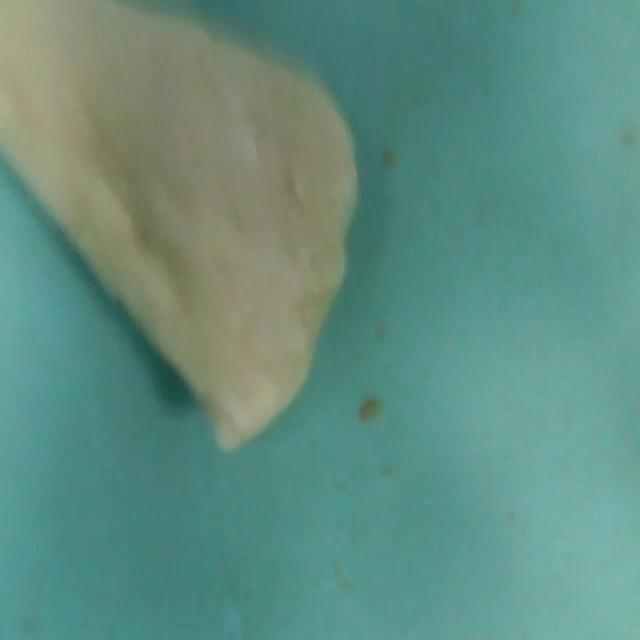rock: (0, 0, 365, 458)
